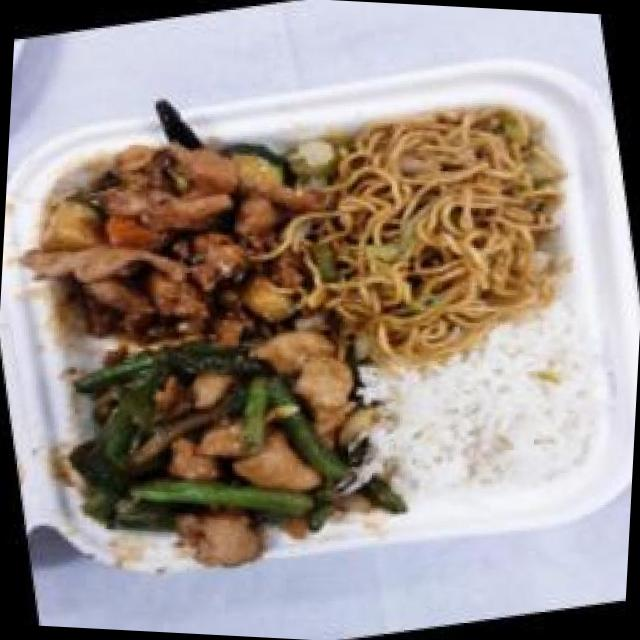Chow Mein: (270, 73, 602, 369)
Kung Pao Chicken: (12, 104, 338, 378)
String Bean Chicken Breast: (39, 290, 403, 592)
White Steamed Rice: (356, 307, 610, 520)
